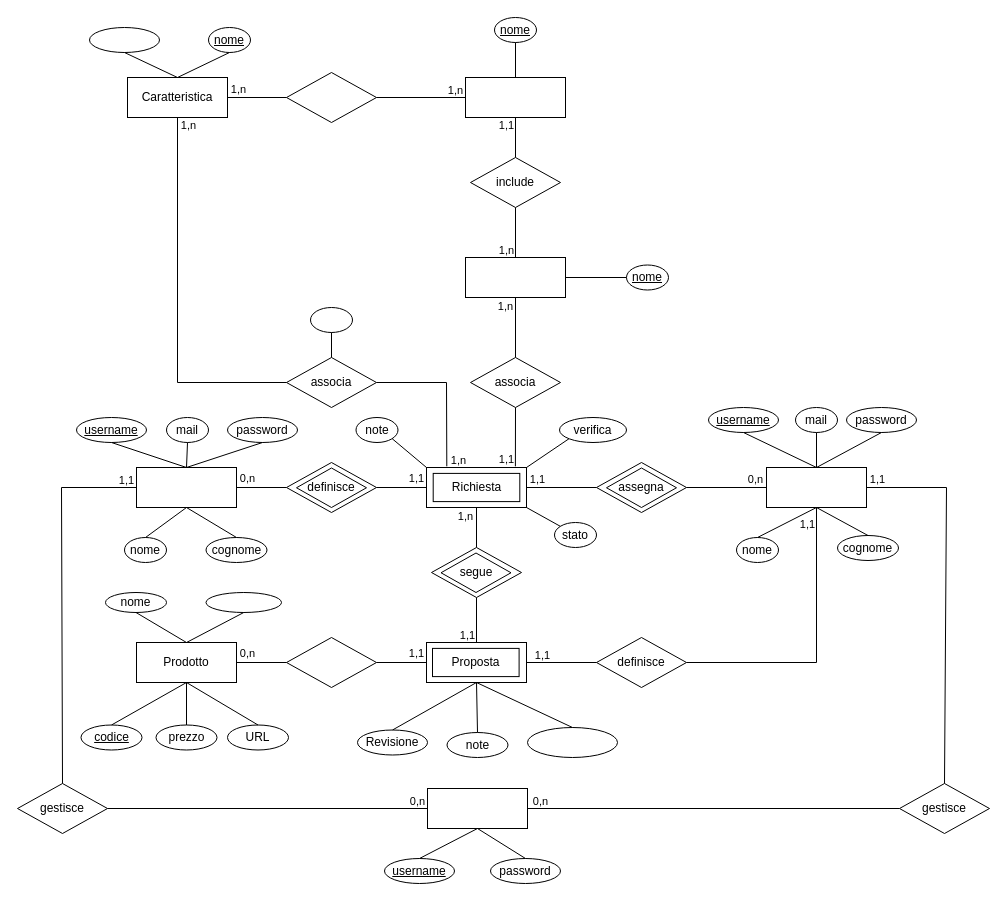
This 1007x901 diagram has some shape labels left out. Each missing label, with the centre of its shape:
"Amministratore" goes at [477,808].
"Categoria" goes at [515,277].
"contiene" goes at [331,97].
"descrizione" goes at [124,39].
"Ordinante" goes at [186,487].
"produttore" goes at [243,602].
"propone" goes at [331,662].
"rev_motivazione" goes at [572,742].
"Sotto-Categoria" goes at [515,97].
"Tecnico" goes at [816,487].
"valore" goes at [331,319].
